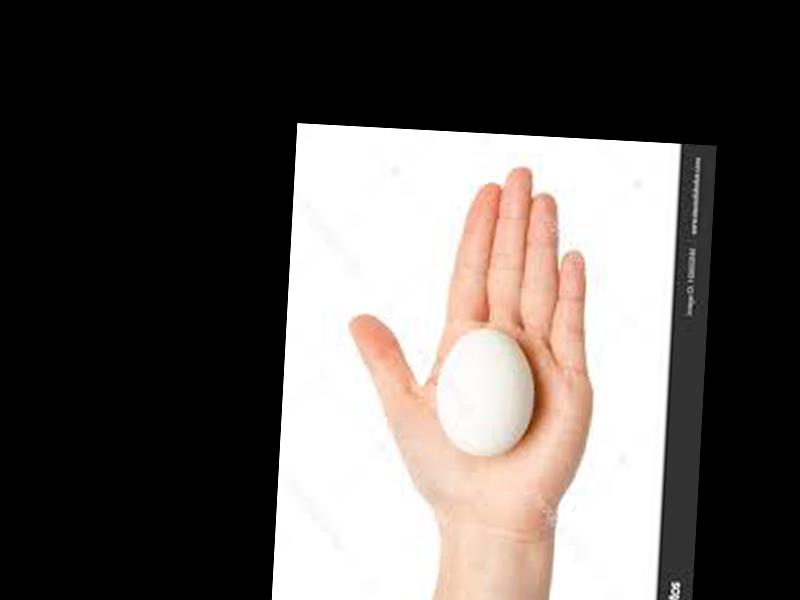Eggs: (436, 326, 533, 457)
